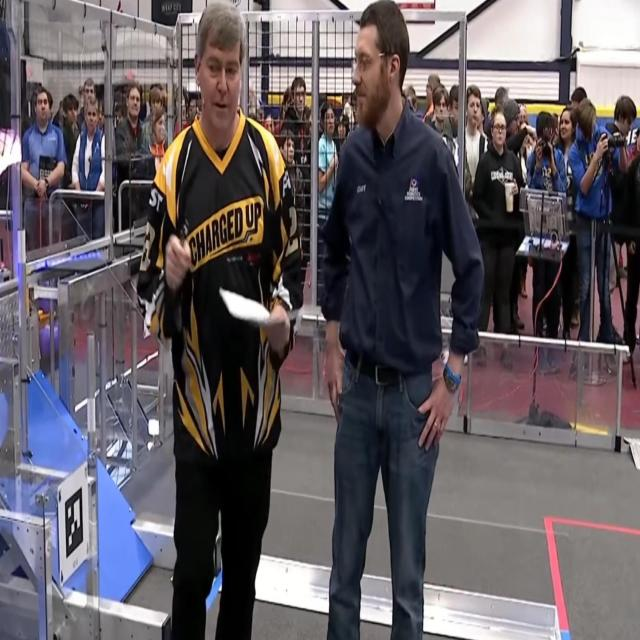frc_cube: (37, 324, 59, 355), (37, 281, 55, 309)
